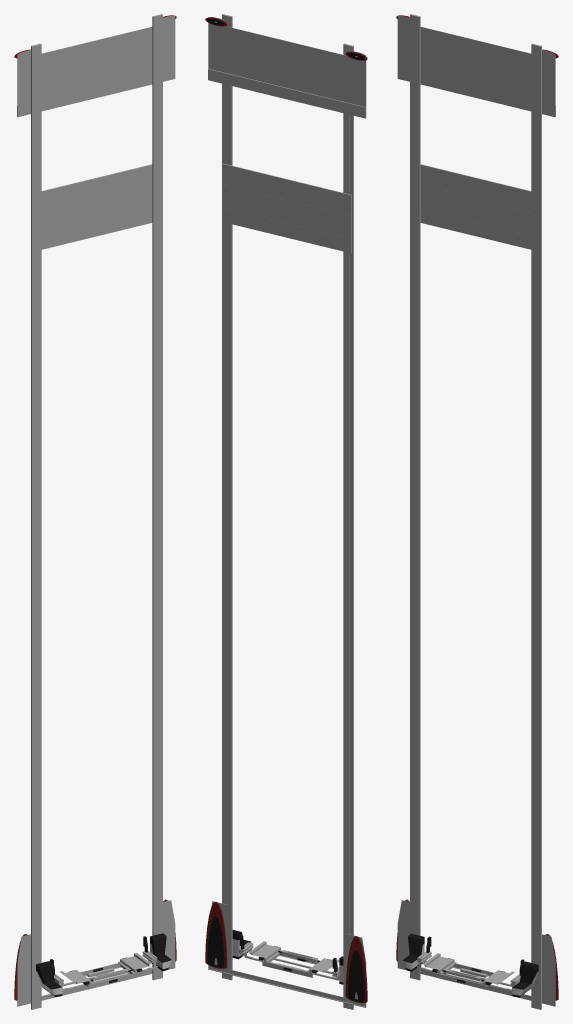
File: zhilang-mast-campus.glb
The picture shows the model from 3 angles, left to right: view 1: azimuth 30°, elevation 25°; view 2: azimuth 150°, elevation 25°; view 3: azimuth 330°, elevation 25°; orthographic projection.
Parts seen in each view (by area): view 1: zhilang-large__竖向轨道, Cube106, Cube104, Cube105, Cube105_2; view 2: Cube106, zhilang-large__竖向轨道, Cube106_1, Cube106_2, Cube104, Cube105_2; view 3: zhilang-large__竖向轨道, Cube106, Cube104, Cube105, Cube105_2.
Boxes of the visible parts, bbox=[...] form: zhilang-large__竖向轨道: bbox=[31, 14, 162, 1009]; Cube106: bbox=[17, 16, 175, 1006]; Cube104: bbox=[59, 953, 151, 989]; Cube105: bbox=[36, 933, 171, 996]; Cube105_2: bbox=[54, 951, 157, 991]; Cube106: bbox=[208, 16, 366, 1007]; zhilang-large__竖向轨道: bbox=[222, 14, 353, 1009]; Cube106_1: bbox=[207, 19, 364, 1002]; Cube106_2: bbox=[205, 17, 367, 1002]; Cube104: bbox=[249, 941, 339, 977]; Cube105_2: bbox=[239, 942, 339, 980]; zhilang-large__竖向轨道: bbox=[410, 14, 541, 1009]; Cube106: bbox=[397, 16, 555, 1006]; Cube104: bbox=[423, 953, 514, 989]; Cube105: bbox=[403, 933, 538, 997]; Cube105_2: bbox=[417, 951, 520, 991].
Size of the model in its own units: 1.9 by 10.8 by 0.3635.
